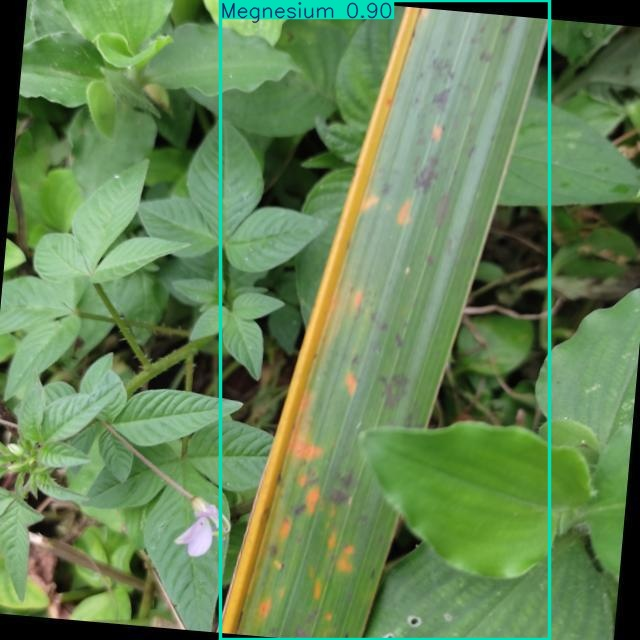Megnesium: (220, 0, 549, 639)
